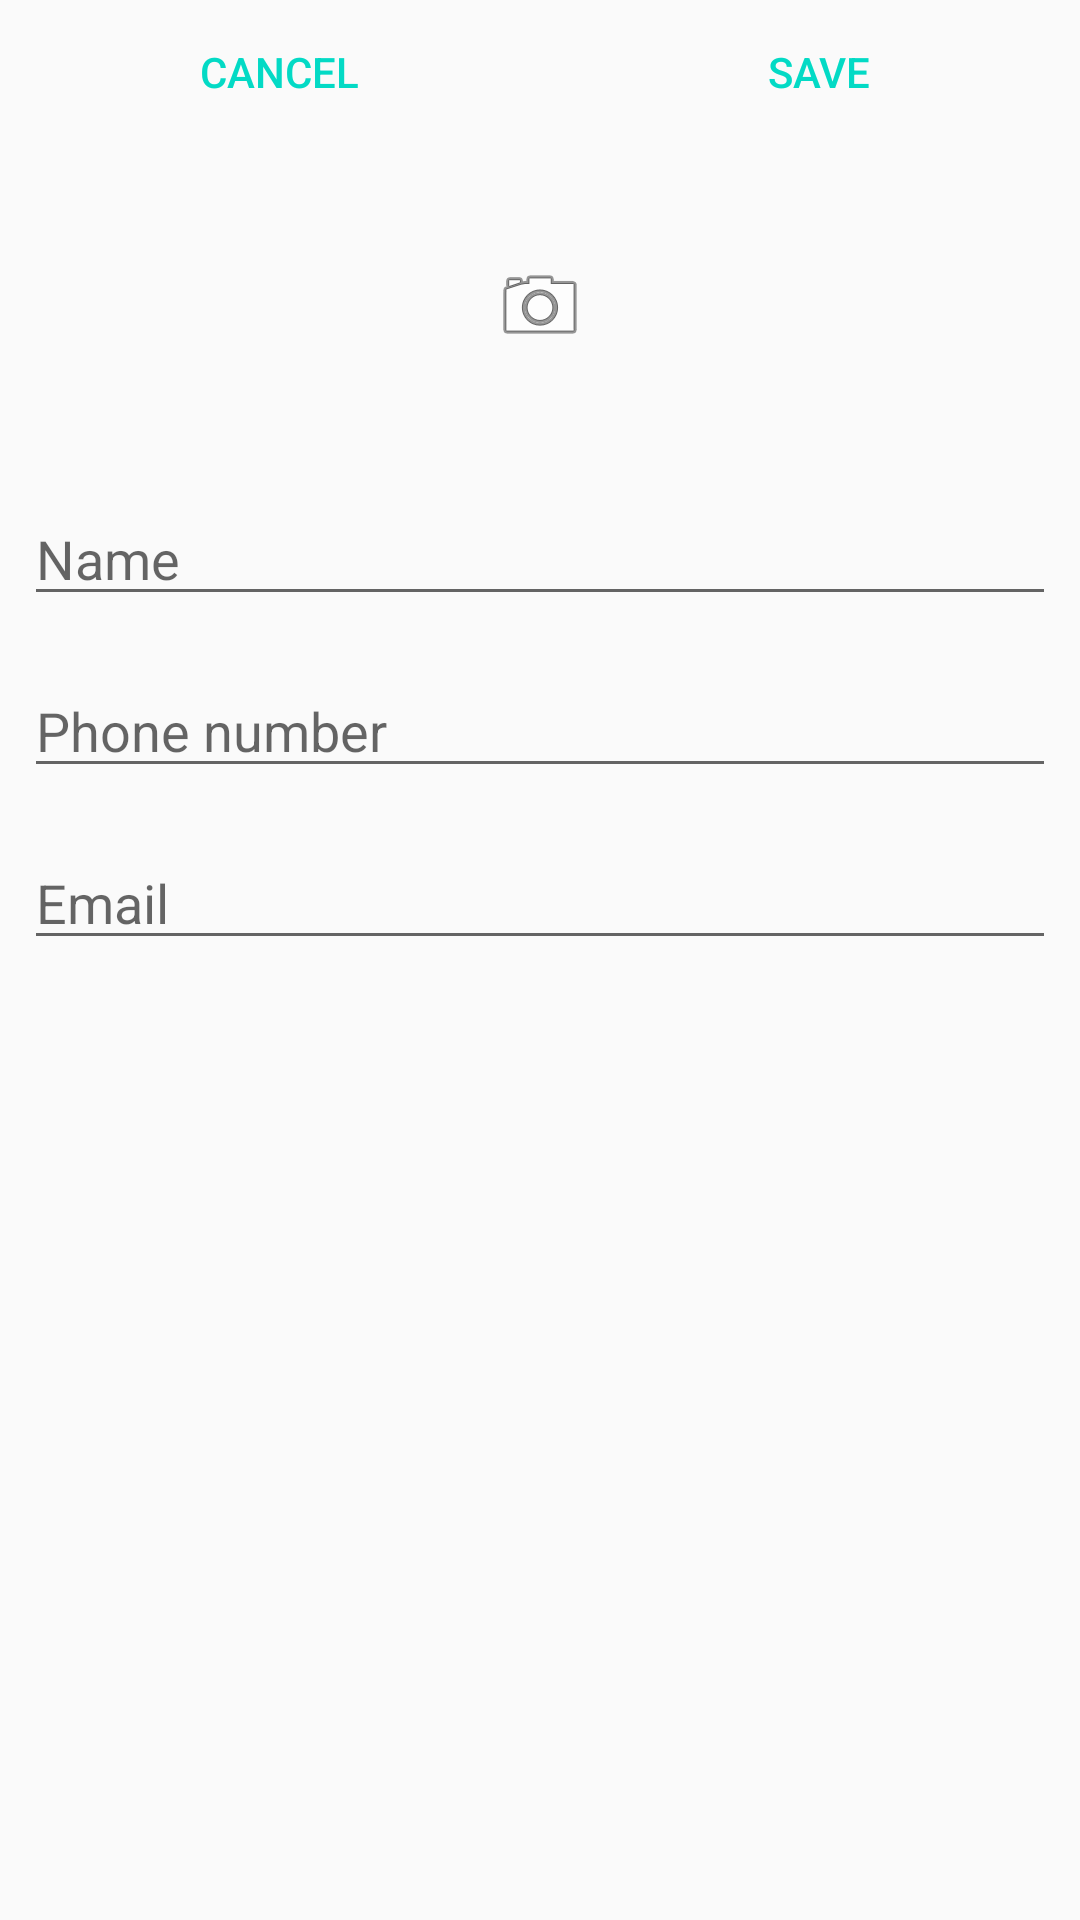

Point at icon controls on the screen. Image size 1080 x 1920, points as point (x, y).
camera: point (540, 304)
